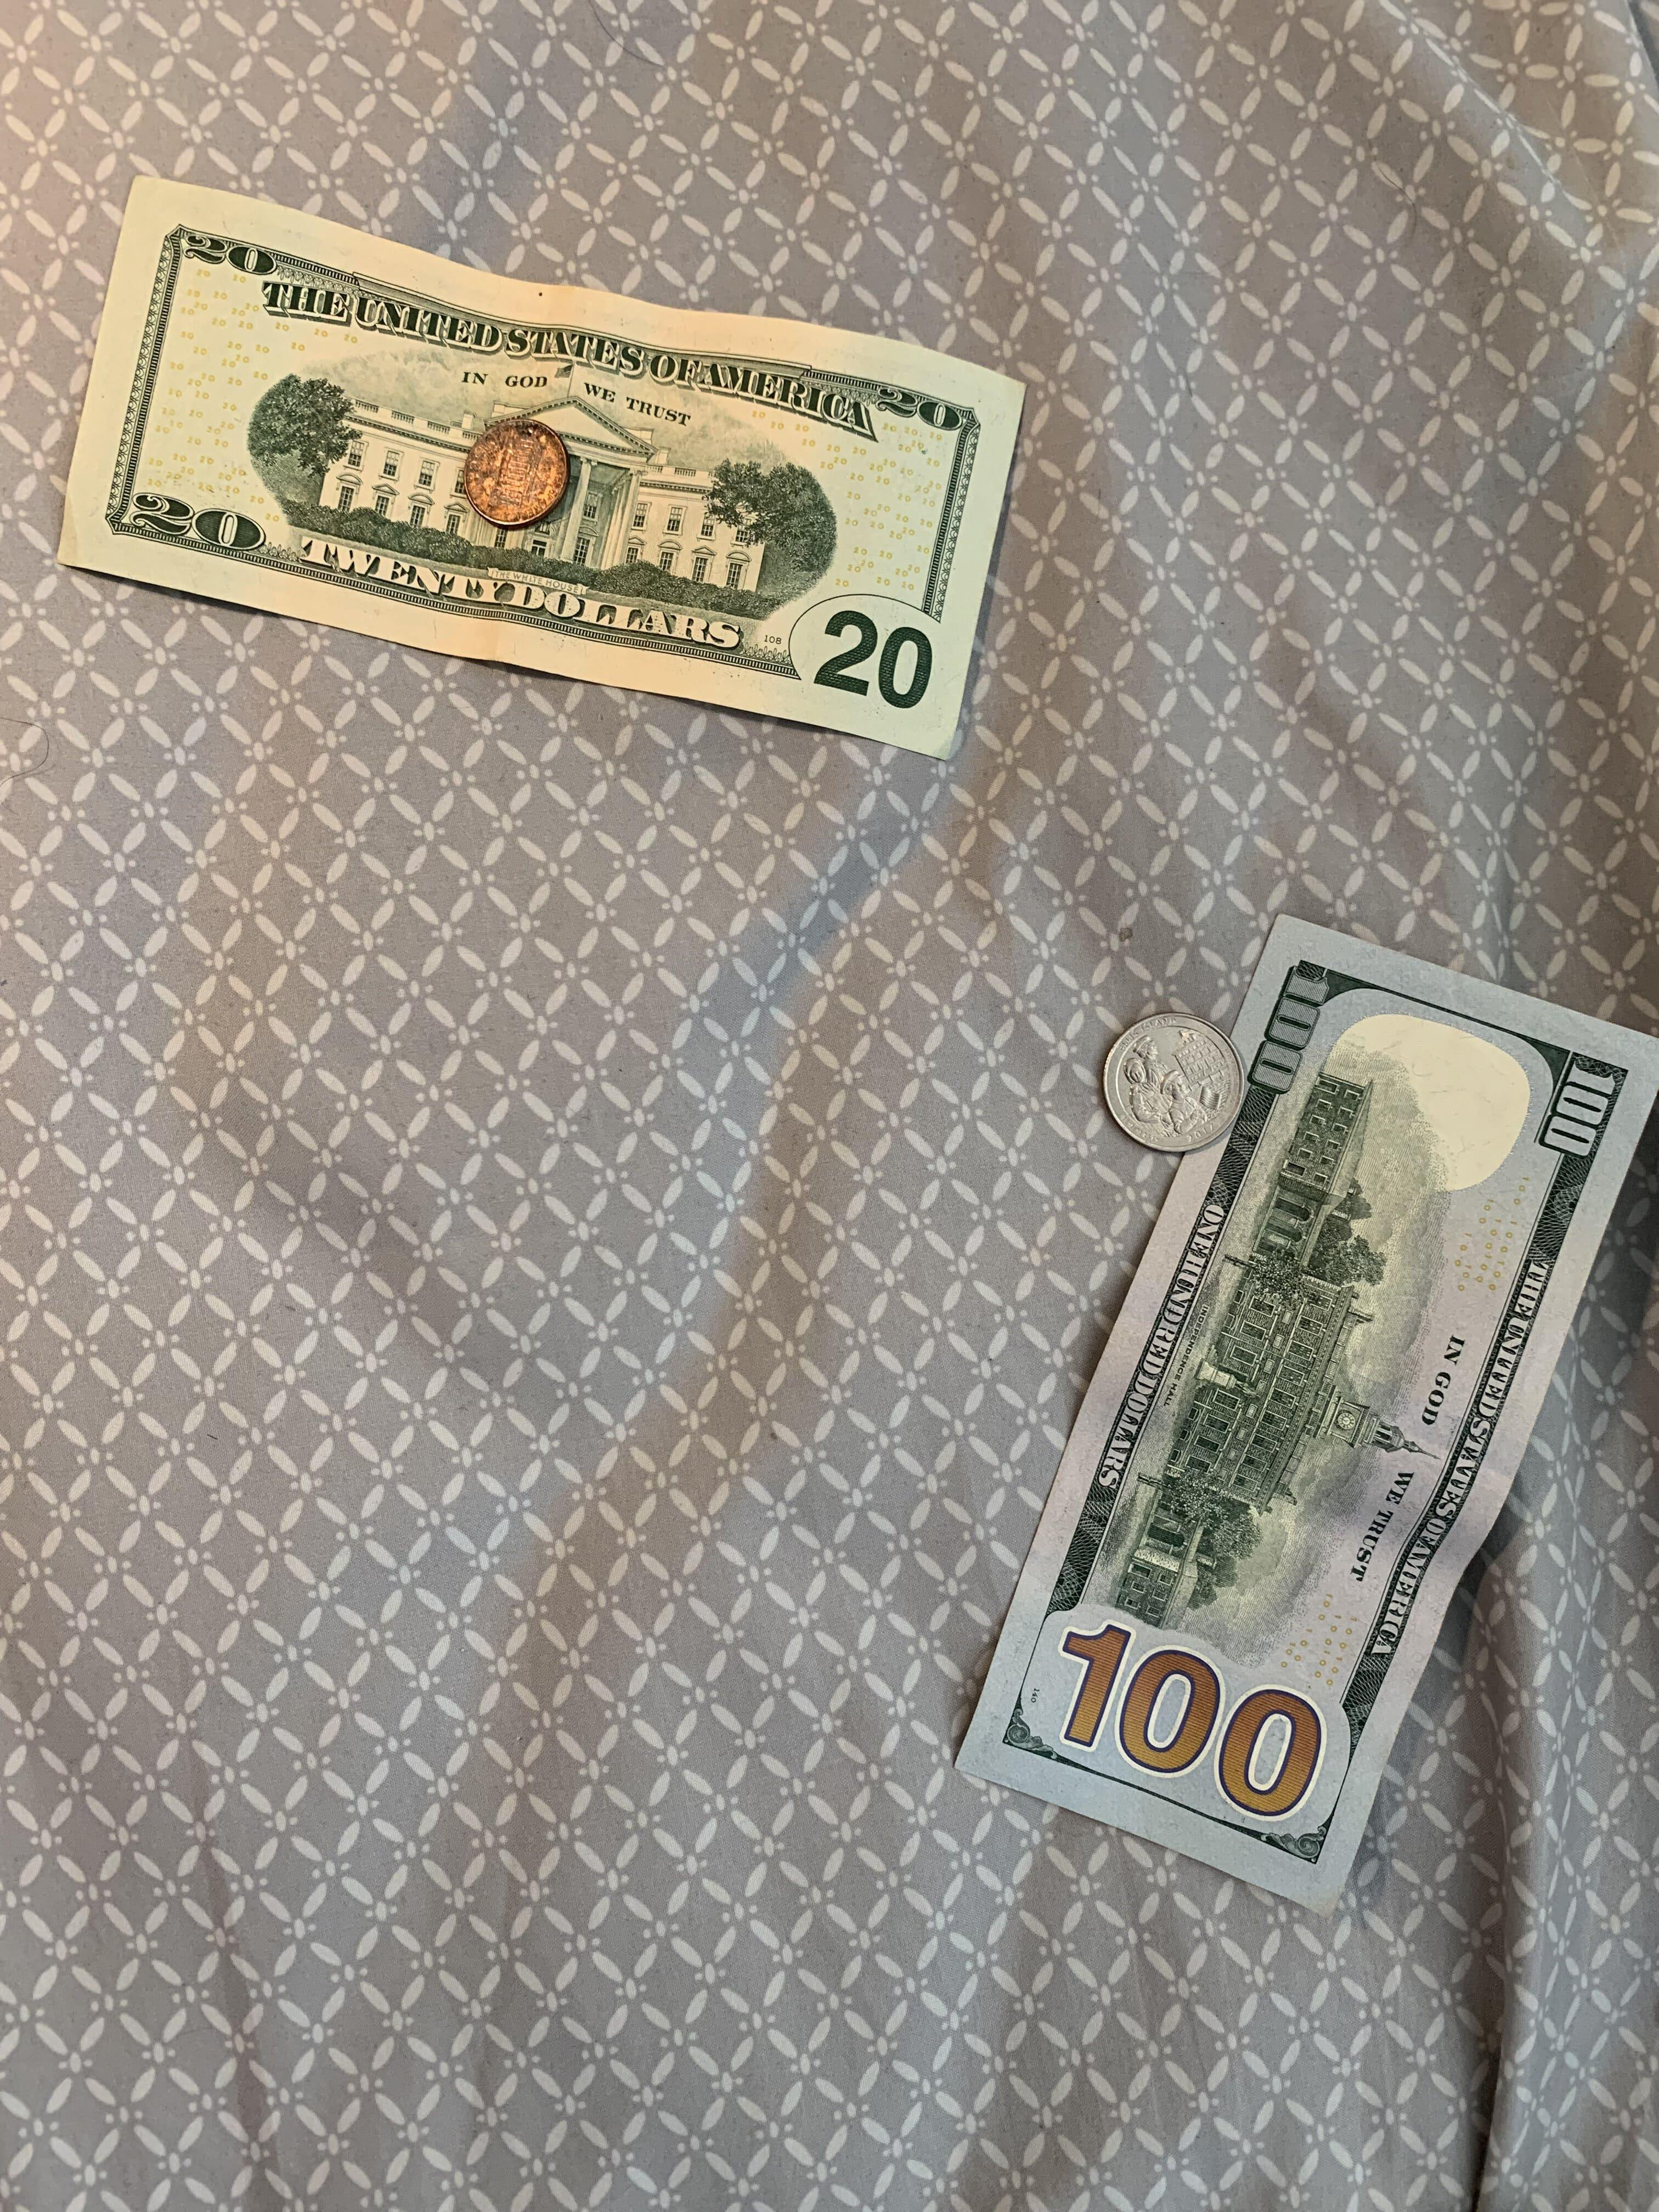HundredBill: (917, 892, 1657, 1921)
Penny: (446, 409, 589, 545)
Quarter: (1061, 1001, 1279, 1176)
TwentyBill: (28, 136, 1079, 824)
